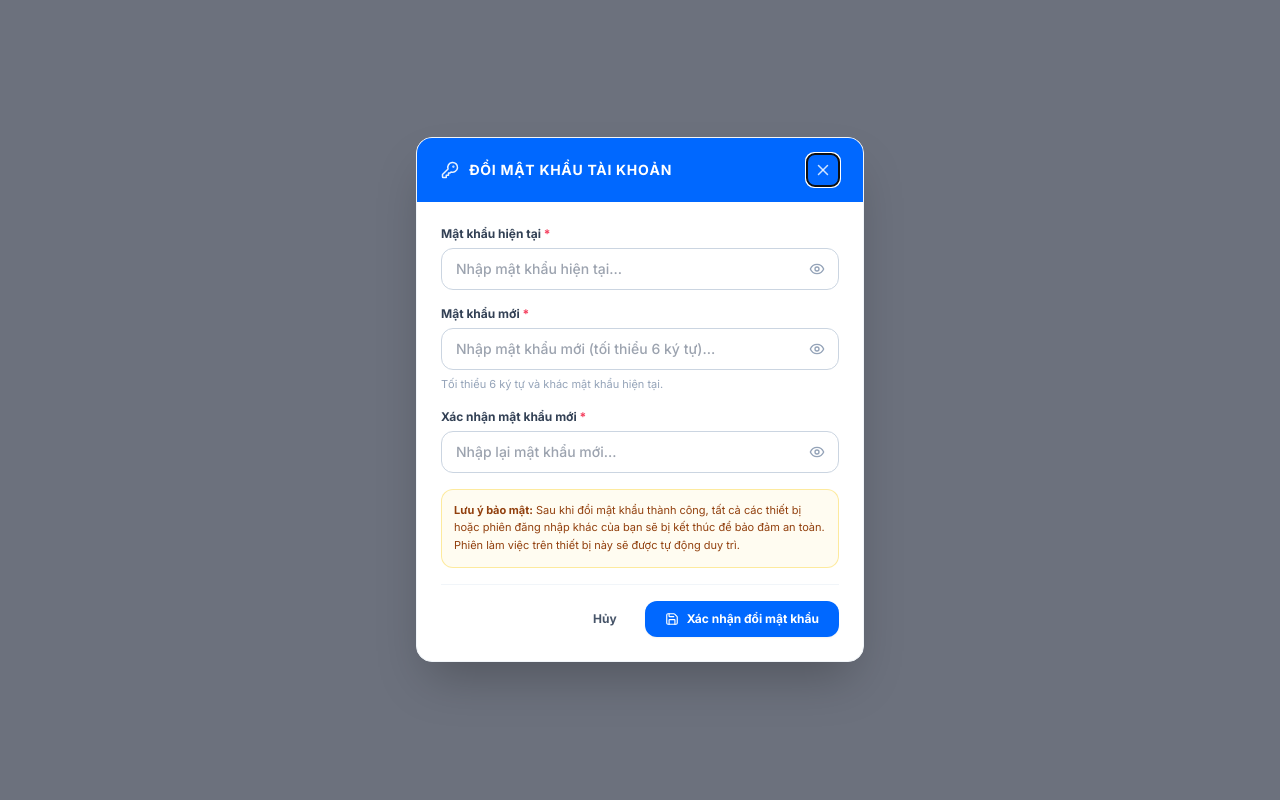
Scenario: NCL-01-CN-006: Đổi mật khẩu và cập nhật hồ sơ cá nhân › NCL-01-CN-006-TC-02: Dữ liệu đổi mật khẩu không hợp lệ › shows validation error when new password is same as current password
Type "SamePassword123" into the password field with placeholder "Nhập mật khẩu hiện tại...".
click(640, 269); type("SamePassword123")  # box x1=441 y1=248 x2=839 y2=290
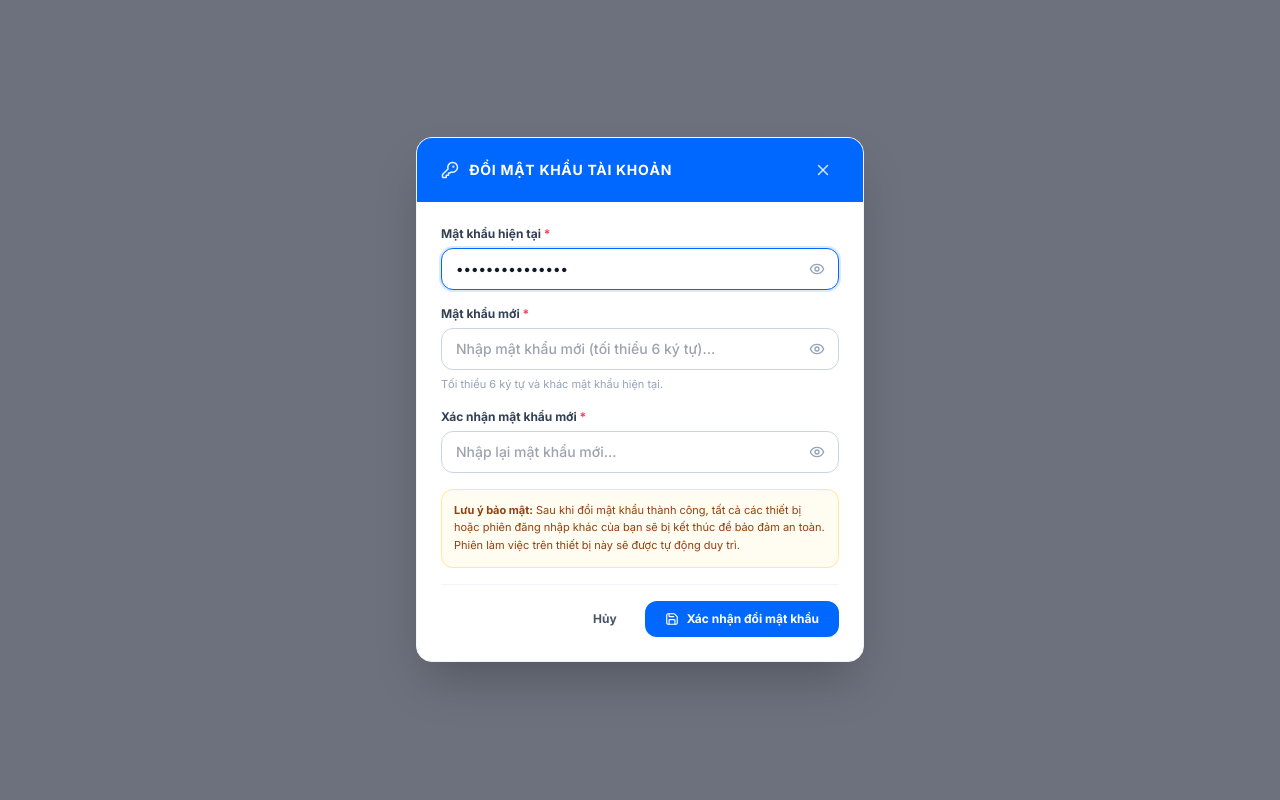
Type "SamePassword123" into the password field with placeholder "Nhập mật khẩu mới (tối thiểu 6 ký tự)...".
click(640, 349); type("SamePassword123")  # box x1=441 y1=328 x2=839 y2=370
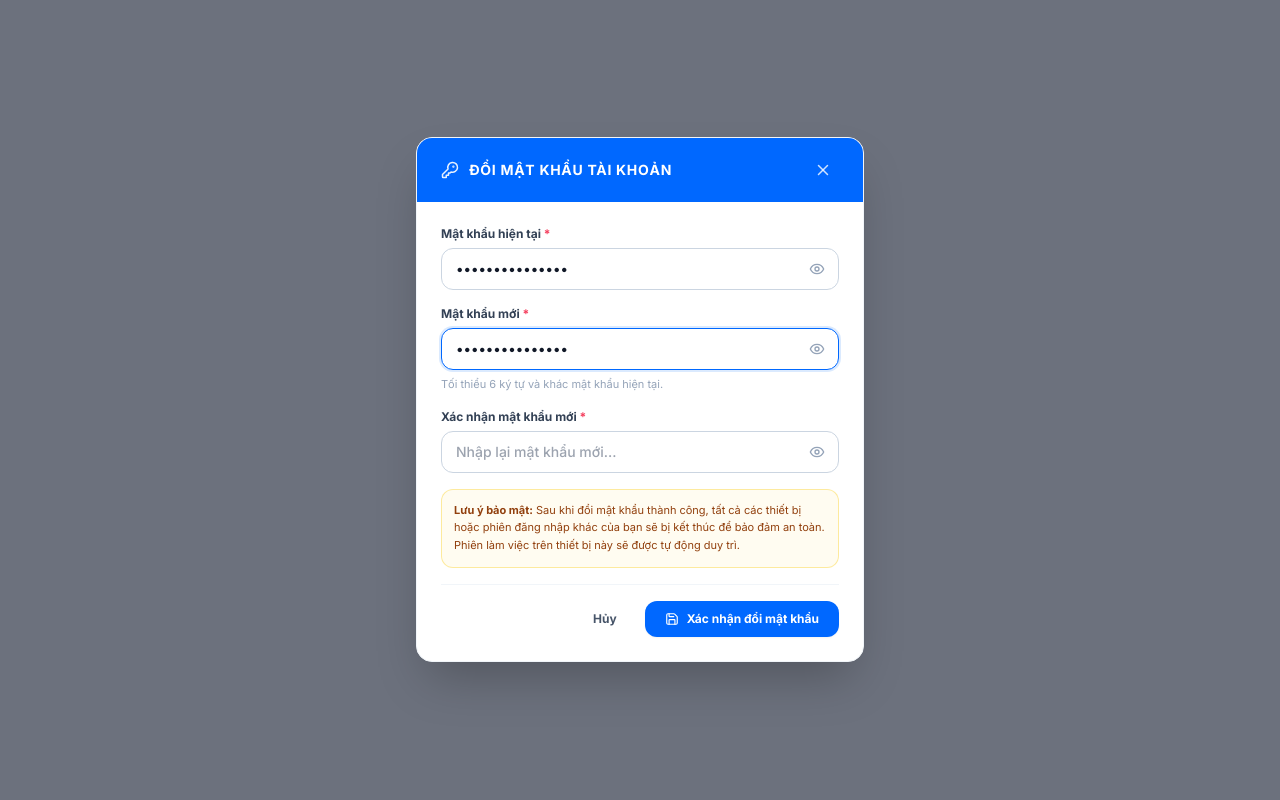
Type "SamePassword123" into the password field with placeholder "Nhập lại mật khẩu mới...".
click(640, 452); type("SamePassword123")  # box x1=441 y1=431 x2=839 y2=473
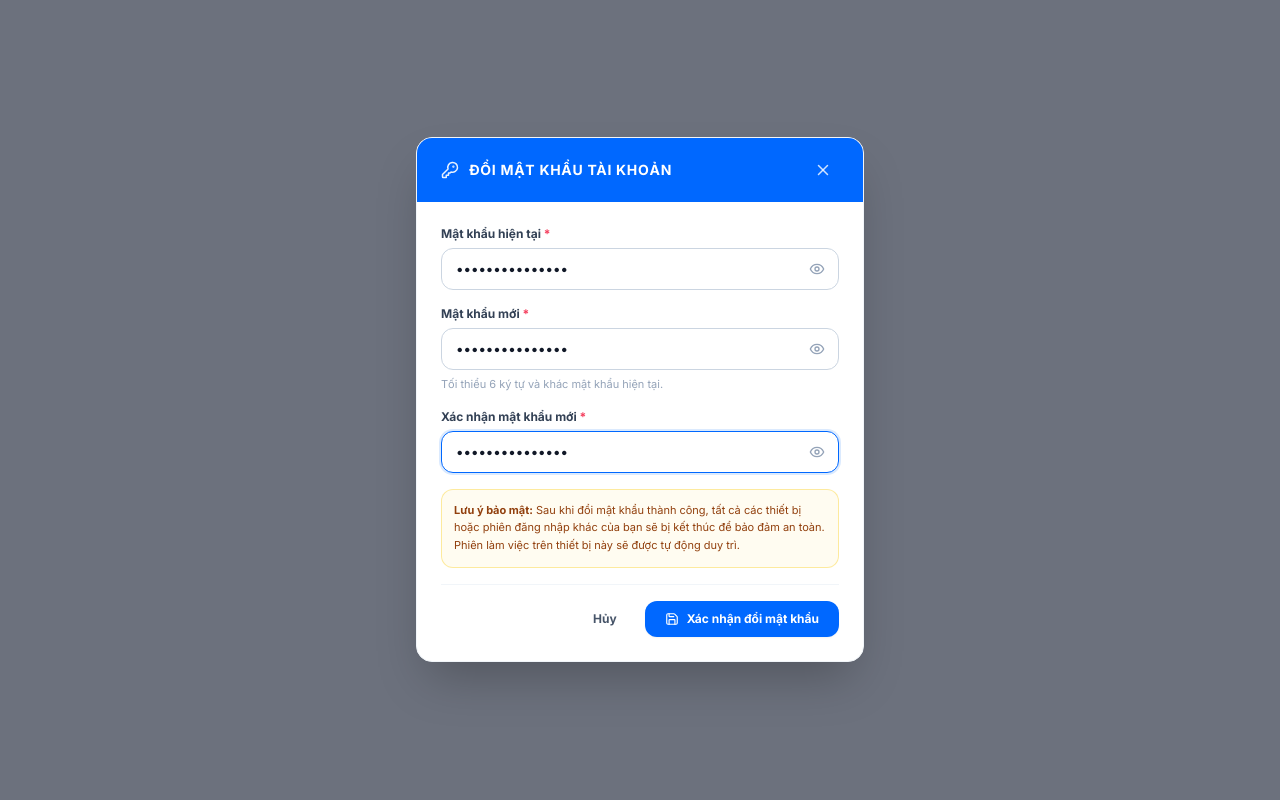
Click the button "Xác nhận đổi mật khẩu".
click(742, 620)  # box x1=645 y1=602 x2=839 y2=638
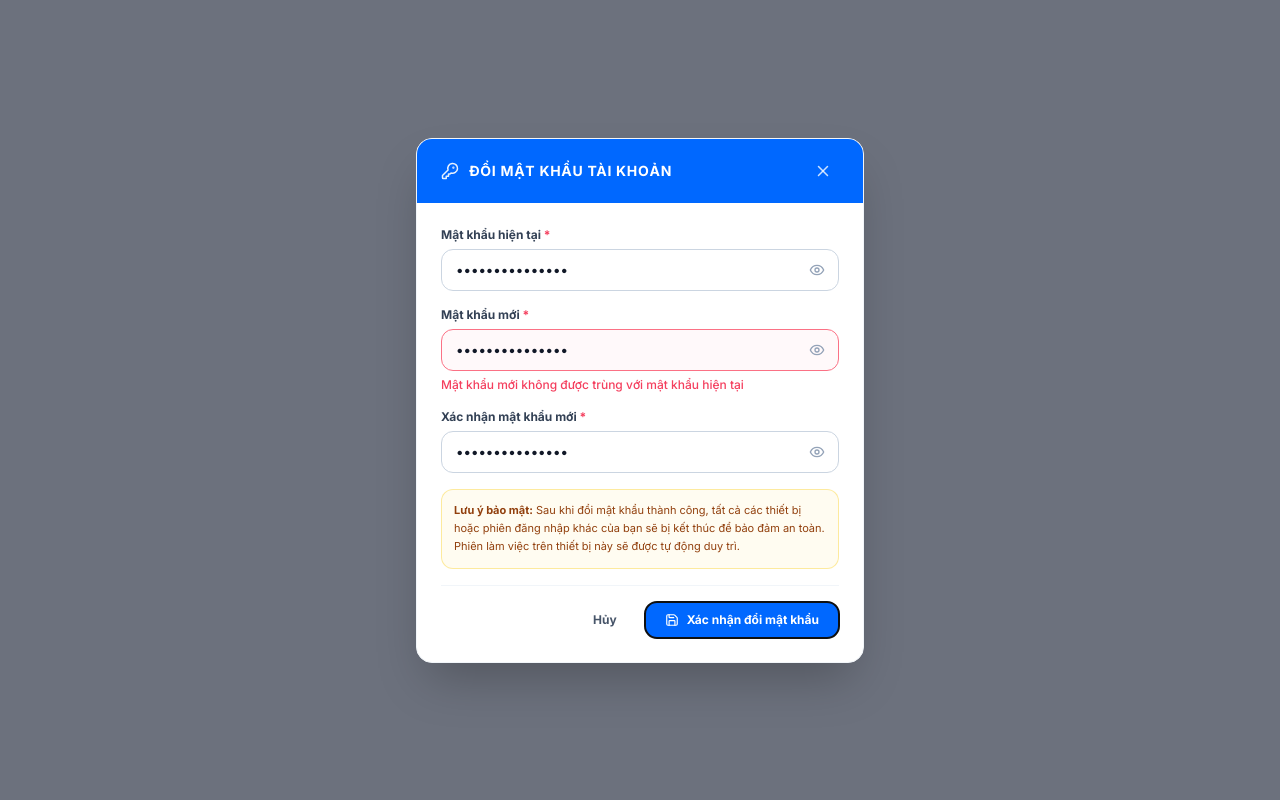
Expected: the text "Mật khẩu mới không được trùng với mật khẩu hiện tại" is shown, x1=441 y1=377 x2=744 y2=392
